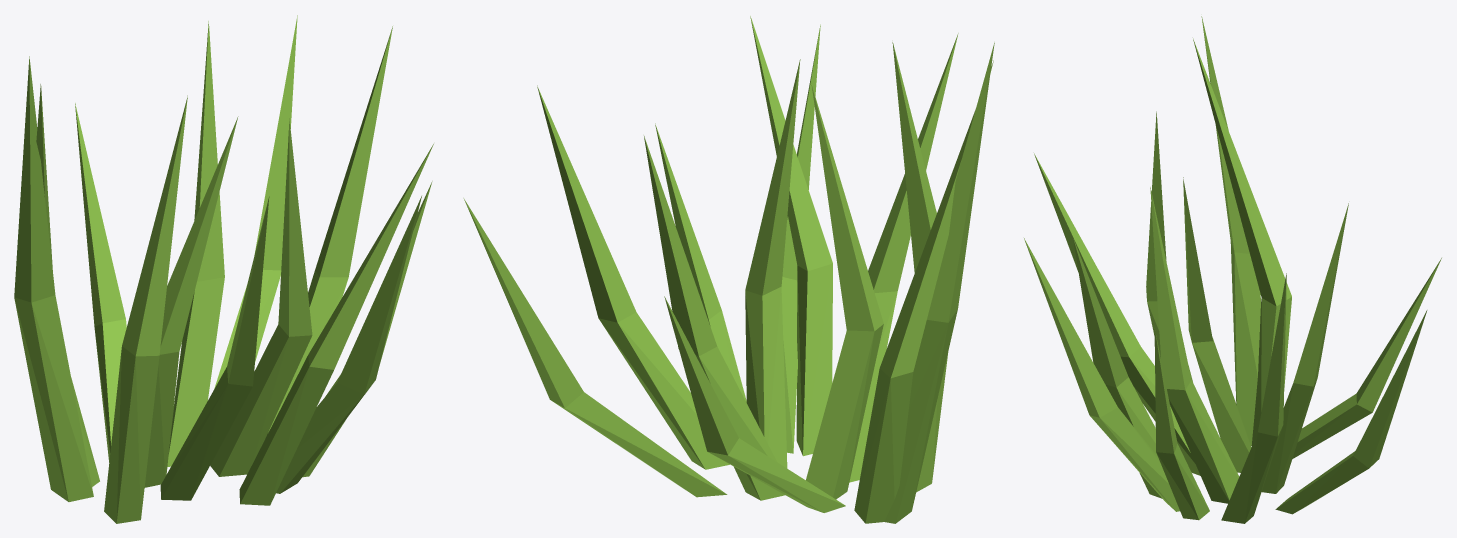
The model's file is grass.obj.
3 renders of one model, left to right at view 1: azimuth 30°, elevation 25°; view 2: azimuth 150°, elevation 25°; view 3: azimuth 270°, elevation 25°, orthographic. The views are drawn at different scales.
Visible parts, largest first — view 1: mesh1478955019, mesh1354063860, mesh883053433, mesh961515343, mesh149050868, mesh949972352, mesh838631015, mesh732216278, mesh1087128645, mesh268584861, mesh1186155763, mesh1660468851 (+1 smaller); view 2: mesh838631015, mesh1087128645, mesh1660468851, mesh883053433, mesh961515343, mesh1478955019, mesh1186155763, mesh149050868, mesh268584861, mesh949972352, mesh1354063860, mesh732216278 (+1 smaller); view 3: mesh883053433, mesh1660468851, mesh1478955019, mesh732216278, mesh838631015, mesh949972352, mesh149050868, mesh1087128645, mesh961515343, mesh1186155763, mesh268584861, mesh1625344367 (+1 smaller).
Part boxes in pixels (<box>): mesh1478955019: <box>14,56,93,501</box>; mesh1354063860: <box>104,95,187,523</box>; mesh883053433: <box>210,118,312,476</box>; mesh961515343: <box>239,144,433,505</box>; mesh149050868: <box>167,21,224,466</box>; mesh949972352: <box>160,196,269,500</box>; mesh838631015: <box>144,116,238,487</box>; mesh732216278: <box>276,196,421,493</box>; mesh1087128645: <box>267,26,392,434</box>; mesh268584861: <box>75,103,126,462</box>; mesh1186155763: <box>214,15,297,388</box>; mesh1660468851: <box>36,84,99,486</box>; mesh838631015: <box>806,85,883,499</box>; mesh1087128645: <box>537,85,729,469</box>; mesh1660468851: <box>854,60,993,523</box>; mesh883053433: <box>745,59,800,468</box>; mesh961515343: <box>750,16,832,456</box>; mesh1478955019: <box>884,42,994,523</box>; mesh1186155763: <box>463,198,727,497</box>; mesh149050868: <box>644,136,784,500</box>; mesh268584861: <box>664,296,845,512</box>; mesh949972352: <box>849,33,958,482</box>; mesh1354063860: <box>892,42,948,492</box>; mesh732216278: <box>781,24,820,453</box>; mesh883053433: <box>1150,187,1239,503</box>; mesh1660468851: <box>1193,38,1291,445</box>; mesh1478955019: <box>1201,16,1260,445</box>; mesh732216278: <box>1024,238,1179,511</box>; mesh838631015: <box>1183,177,1251,472</box>; mesh949972352: <box>1034,153,1200,475</box>; mesh149050868: <box>1261,203,1348,493</box>; mesh1087128645: <box>1221,273,1286,523</box>; mesh961515343: <box>1073,238,1162,498</box>; mesh1186155763: <box>1275,310,1427,514</box>; mesh268584861: <box>1292,258,1441,458</box>; mesh1625344367: <box>1154,328,1209,520</box>.
Size of the model in its own units: 0.1573 by 0.1731 by 0.1662.
